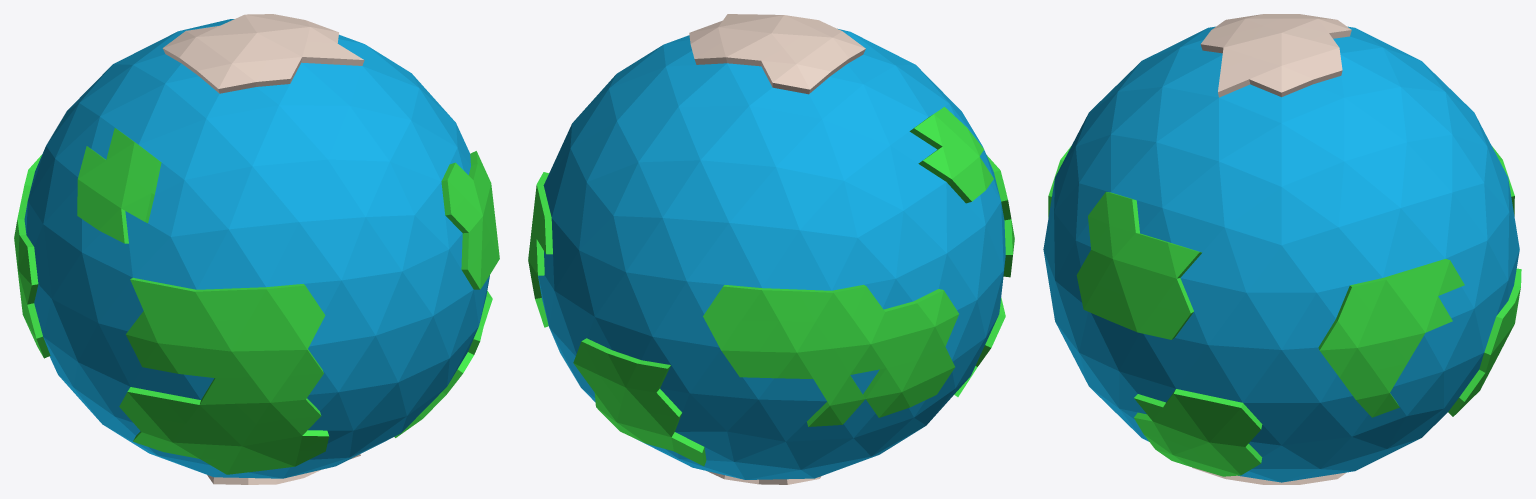
The model's file is Planet01.glb.
3 renders of one model, left to right at view 1: azimuth 30°, elevation 25°; view 2: azimuth 150°, elevation 25°; view 3: azimuth 270°, elevation 25°, orthographic.
Parts seen in each view (by area): view 1: Planet01; view 2: Planet01; view 3: Planet01.
Part boxes in pixels (bbox=[...]): Planet01: bbox=[14, 14, 499, 484]; Planet01: bbox=[528, 14, 1014, 484]; Planet01: bbox=[1043, 14, 1521, 484].
Bounding box in the file's own units: 1 × 1 × 1.
